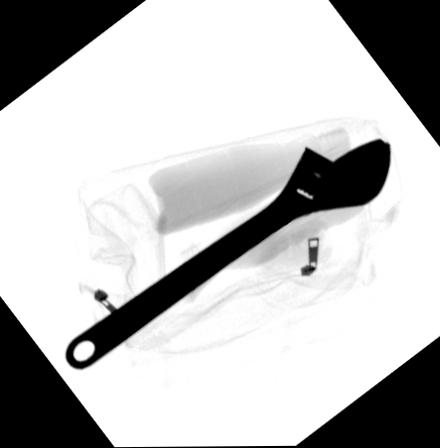Wrench: (62, 136, 391, 369)
